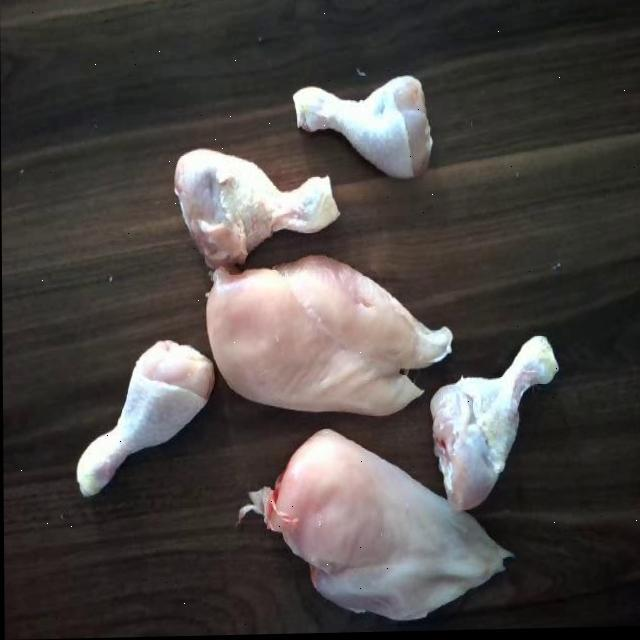breast: (257, 426, 509, 623), (207, 254, 438, 427)
leg: (62, 339, 218, 502), (176, 142, 340, 286), (428, 355, 556, 510), (290, 75, 440, 196)
